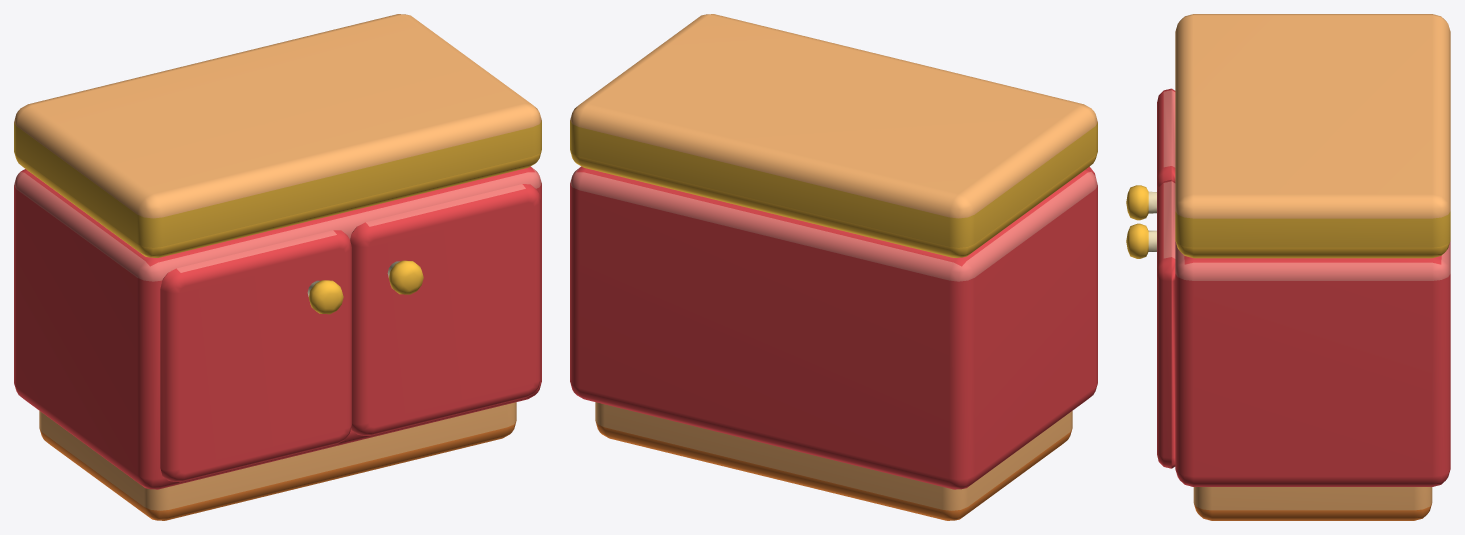
Rendered from armario_cozinha_natal_balcao_pacote.glb.
3 renders of one model, left to right at view 1: azimuth 30°, elevation 25°; view 2: azimuth 150°, elevation 25°; view 3: azimuth 270°, elevation 25°, orthographic.
Parts seen in each view (by area): view 1: armario_cozinha_natal_balcao_pacote, porta_1, porta_2; view 2: armario_cozinha_natal_balcao_pacote; view 3: armario_cozinha_natal_balcao_pacote, porta_2, porta_1.
Part boxes in pixels (x1,y1,x2,y2): armario_cozinha_natal_balcao_pacote: (14,14,541,520); porta_1: (160,230,351,482); porta_2: (350,184,540,435); armario_cozinha_natal_balcao_pacote: (570,14,1097,520); armario_cozinha_natal_balcao_pacote: (1175,14,1450,520); porta_2: (1126,179,1175,468); porta_1: (1126,88,1175,220).
Size of the model in its own units: 1.06 by 0.8503 by 0.7511.
1 material, 1 textured.
